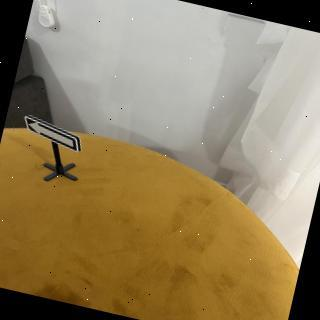sign_oneway_left: (19, 113, 89, 156)
